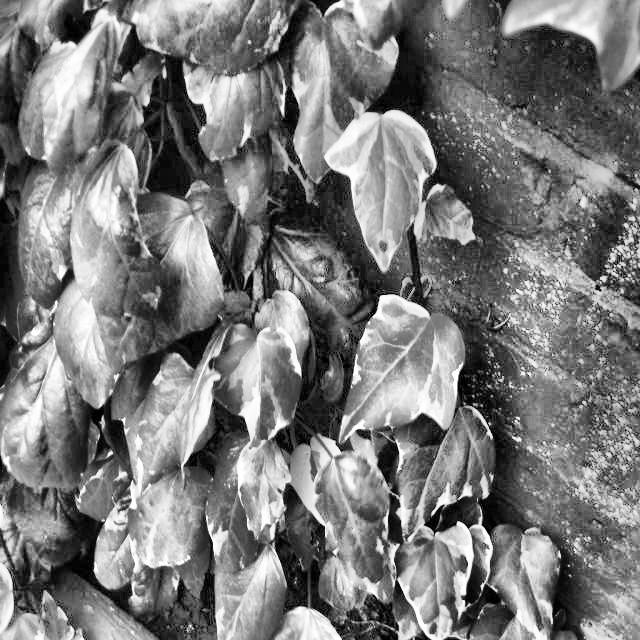plants: (4, 0, 487, 639), (216, 302, 392, 590), (326, 92, 432, 275), (132, 1, 306, 66)
